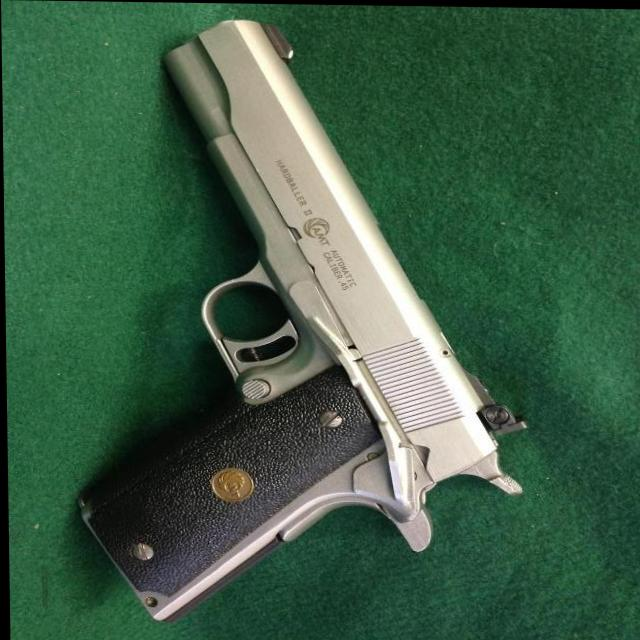handgun: (65, 18, 531, 628)
